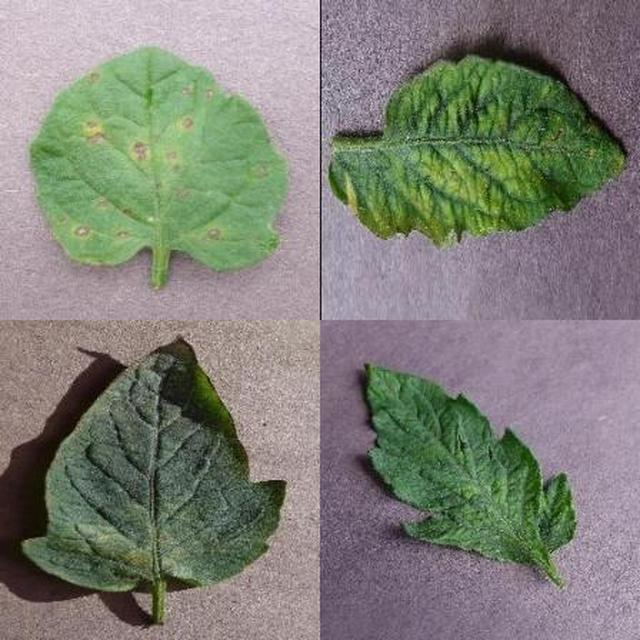Septoria Leaf: (222, 214, 640, 640)
